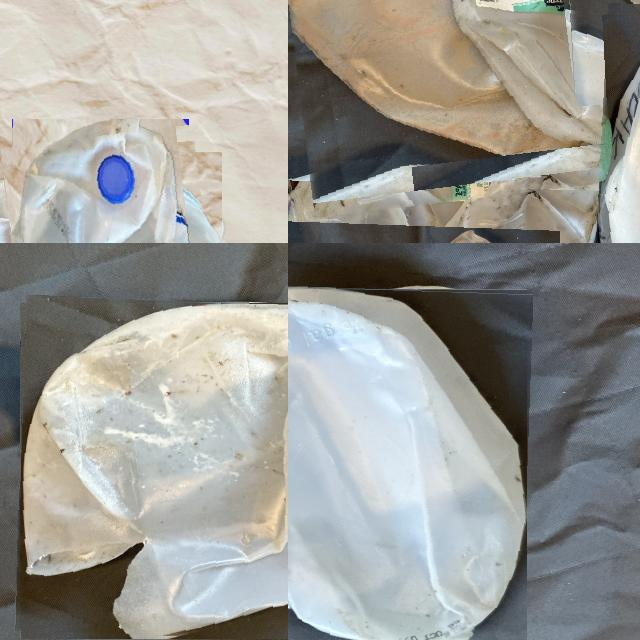milk-jug: (17, 298, 288, 640), (288, 285, 530, 640), (288, 0, 614, 209), (288, 54, 607, 243), (0, 129, 212, 243)
